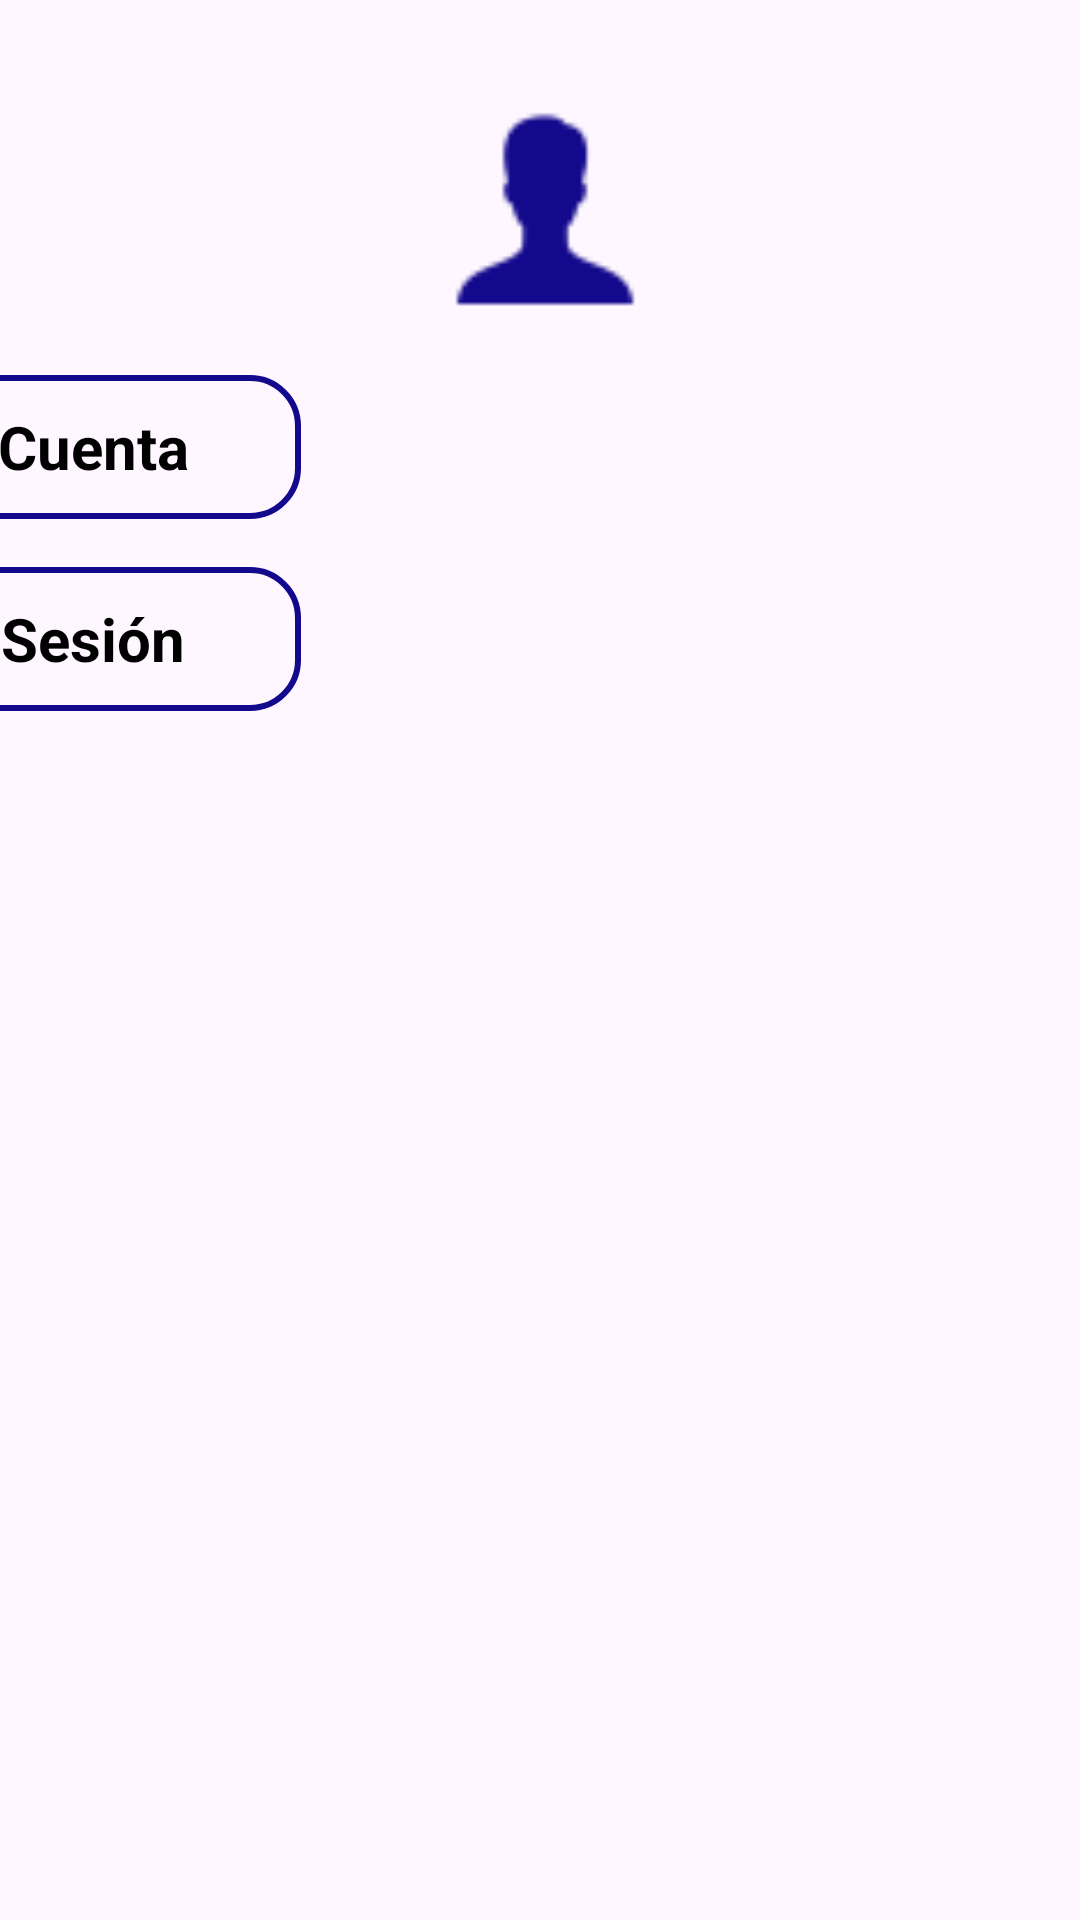

Where icons sit on this 1080px×1920px app screen, as (x1, y1, x2, y2):
persona: (456, 113, 635, 306)
